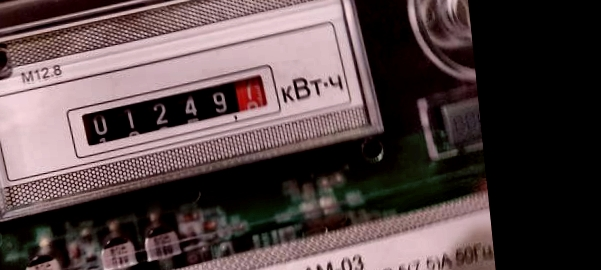0: (87, 109, 109, 136)
1: (119, 105, 137, 131)
2: (149, 99, 171, 127)
4: (180, 90, 201, 119)
7: (239, 76, 256, 102)
9: (209, 87, 229, 114)
screen: (57, 65, 296, 163)
